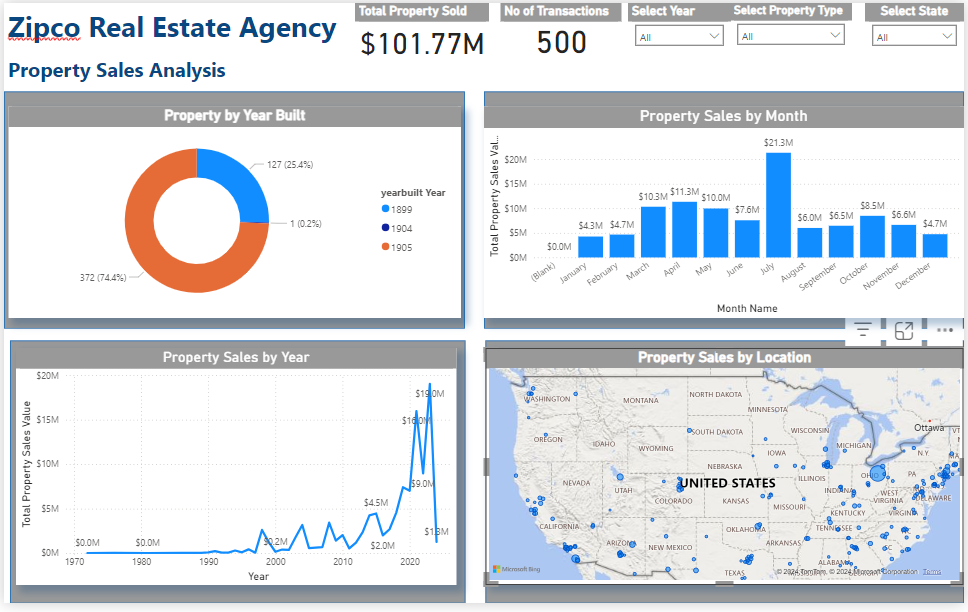

What the dashboard file says about the page in this screenshot:
{"tool":"powerbi","page":{"name":"Page 1","canvas":[1280,800],"ordinal":0},"visuals":[{"type":"shape","box":[7.2,450,607.2,350.6],"z":0},{"type":"shape","box":[641.6,450,638,350.6],"z":1000},{"type":"shape","box":[0,117.5,614.5,316.3],"z":2000},{"type":"shape","box":[639.8,117.5,639.8,316.3],"z":3000},{"type":"card","title":"Total Property Sold","fields":{"Values":["_Measures.Total Property Sales Value"]},"box":[468.4,0,178.9,81.3],"z":4000},{"type":"card","title":"No of Transactions","fields":{"Values":["_Measures.No of Transactions"]},"box":[662,0,161,74.8],"z":5000},{"type":"map","title":"Property Sales by Location","fields":{"Y":["zapbank location_dim.latitude"],"X":["zapbank location_dim.longitude"],"Size":["_Measures.Total Property Sales Value"]},"box":[641.6,460.9,638,314.5],"z":6000},{"type":"slicer","title":"Select State","fields":{"Values":["zapbank fact_table.state"]},"box":[1147.6,0,131.9,65.1],"z":7000},{"type":"slicer","title":"Select Property Type","fields":{"Values":["zapbank features_dim.propertytype"]},"box":[968.7,0,162.7,61.4],"z":8000},{"type":"slicer","title":"Select Year","fields":{"Values":["zapbank sales_dim.Year"]},"box":[831.3,0,137.4,68.7],"z":9000},{"type":"clusteredColumnChart","title":"Property Sales by Month","fields":{"Y":["_Measures.Total Property Sales Value"],"Category":["zapbank sales_dim.Month Name"]},"box":[639.8,137.4,639.8,281.9],"z":10000},{"type":"donutChart","title":"Property by Year Built","fields":{"Category":["zapbank fact_table.yearbuilt.Variation.Date Hierarchy.Year"],"Y":["_Measures.No of Transactions"]},"box":[5.4,137.4,603.6,281.9],"z":11000},{"type":"lineChart","title":"Property Sales by Year","fields":{"Category":["zapbank sales_dim.Year"],"Y":["_Measures.Total Property Sales Value"]},"box":[16.3,460.9,587.4,316.3],"z":12000},{"type":"textbox","box":[0,0,468.4,63.4],"z":13000},{"type":"textbox","box":[0,63.3,334.3,54.2],"z":14000}]}

Visuals, with their boxes in screenshot pixels (x1, y1, x2, y2), scaled from the page's 1280x800 canvas onto the 968x612 screenshot:
shape: <bbox>5, 344, 465, 611</bbox>
shape: <bbox>485, 344, 967, 611</bbox>
shape: <bbox>0, 90, 465, 332</bbox>
shape: <bbox>484, 90, 967, 332</bbox>
"Total Property Sold" card: <bbox>354, 0, 490, 62</bbox>
"No of Transactions" card: <bbox>501, 0, 622, 57</bbox>
"Property Sales by Location" map: <bbox>485, 353, 967, 593</bbox>
"Select State" slicer: <bbox>868, 0, 967, 50</bbox>
"Select Property Type" slicer: <bbox>733, 0, 856, 47</bbox>
"Select Year" slicer: <bbox>629, 0, 733, 53</bbox>
"Property Sales by Month" clusteredColumnChart: <bbox>484, 105, 967, 321</bbox>
"Property by Year Built" donutChart: <bbox>4, 105, 461, 321</bbox>
"Property Sales by Year" lineChart: <bbox>12, 353, 457, 595</bbox>
textbox: <bbox>0, 0, 354, 49</bbox>
textbox: <bbox>0, 48, 253, 90</bbox>
